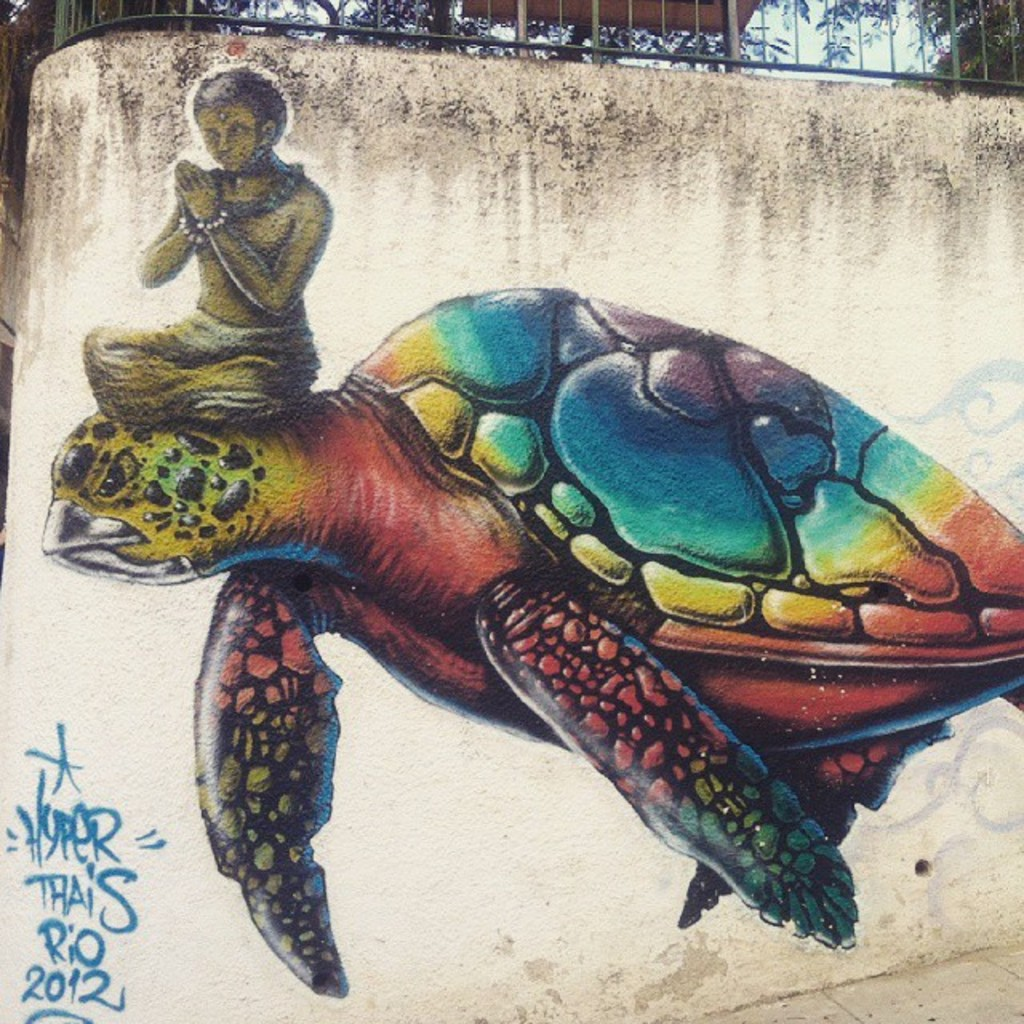Sea turtles: (39, 283, 1022, 998)
